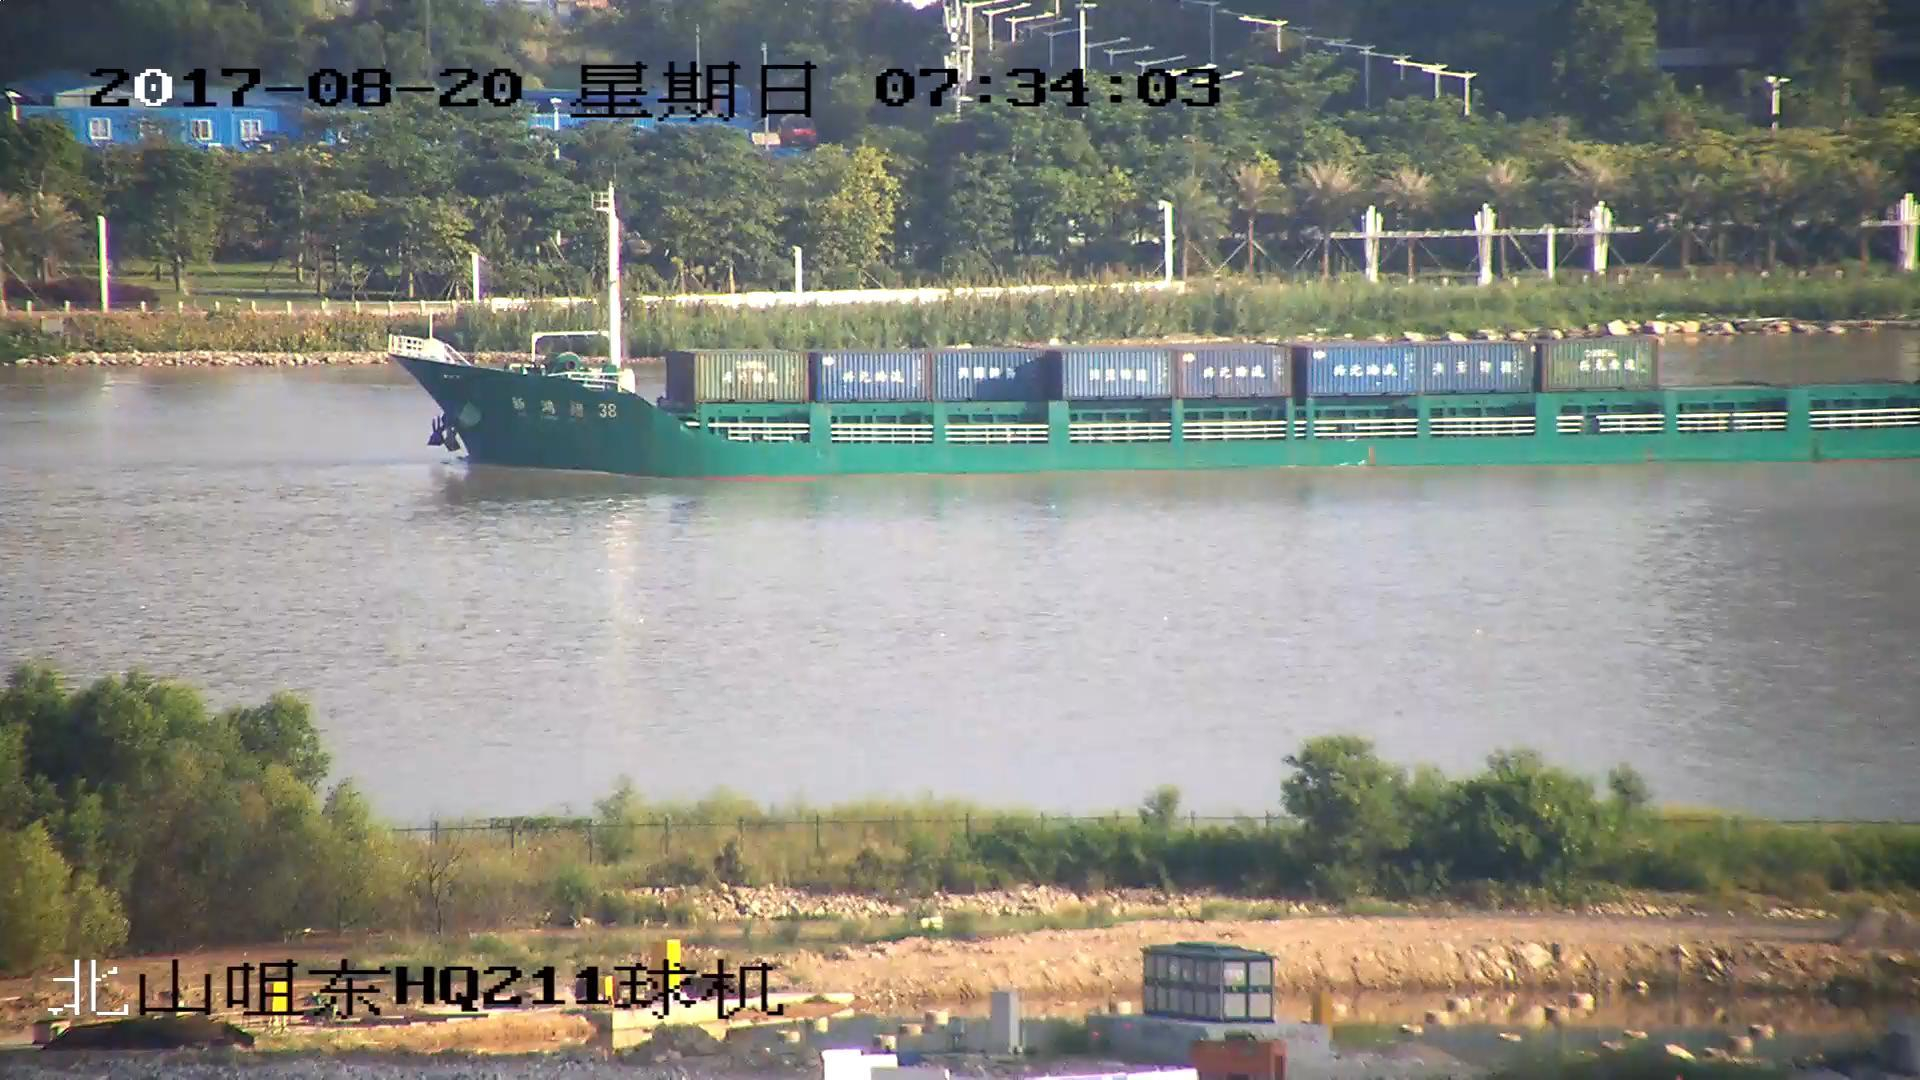Ship: (385, 204, 1920, 487)
